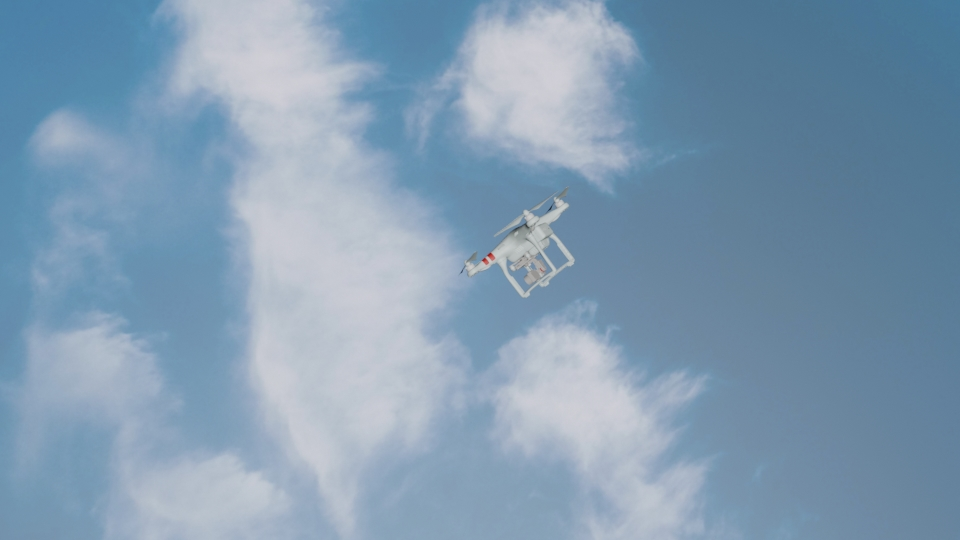drone: (456, 189, 582, 294)
